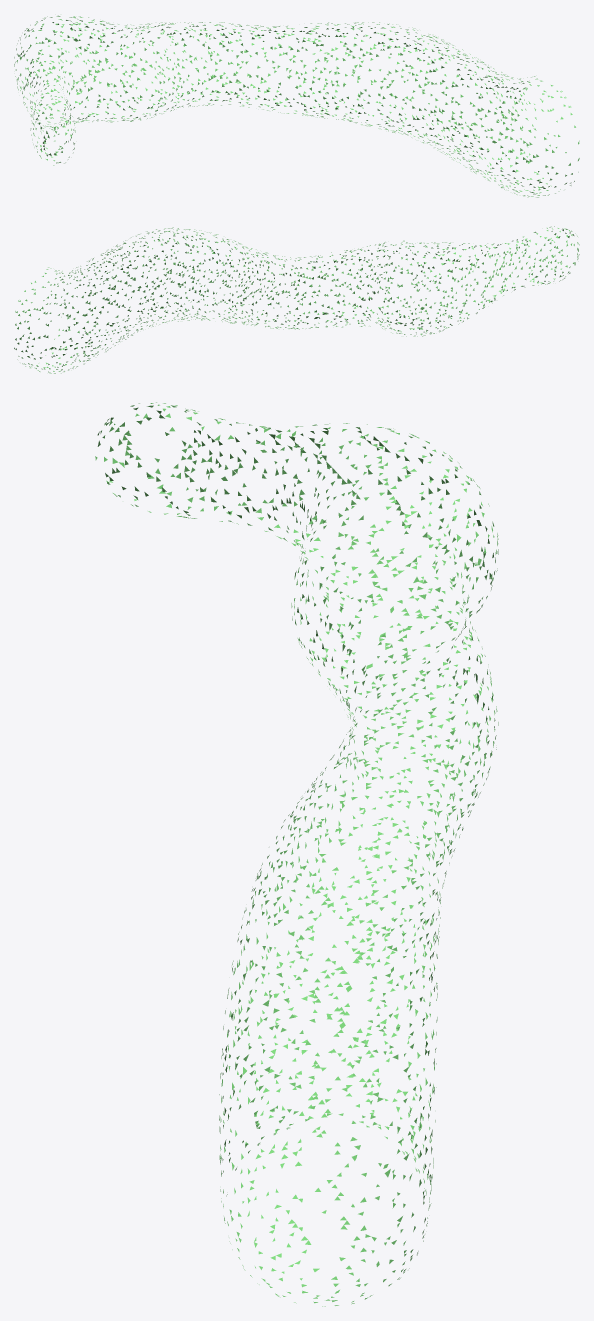
The model's file is morph_017.glb.
3 views of the same model, one above another, from view 1: azimuth 30°, elevation 25°; view 2: azimuth 150°, elevation 25°; view 3: azimuth 270°, elevation 25° (orthographic). The views are drawn at different scales.
Size of the model in its own units: 131 by 59.21 by 46.55.
